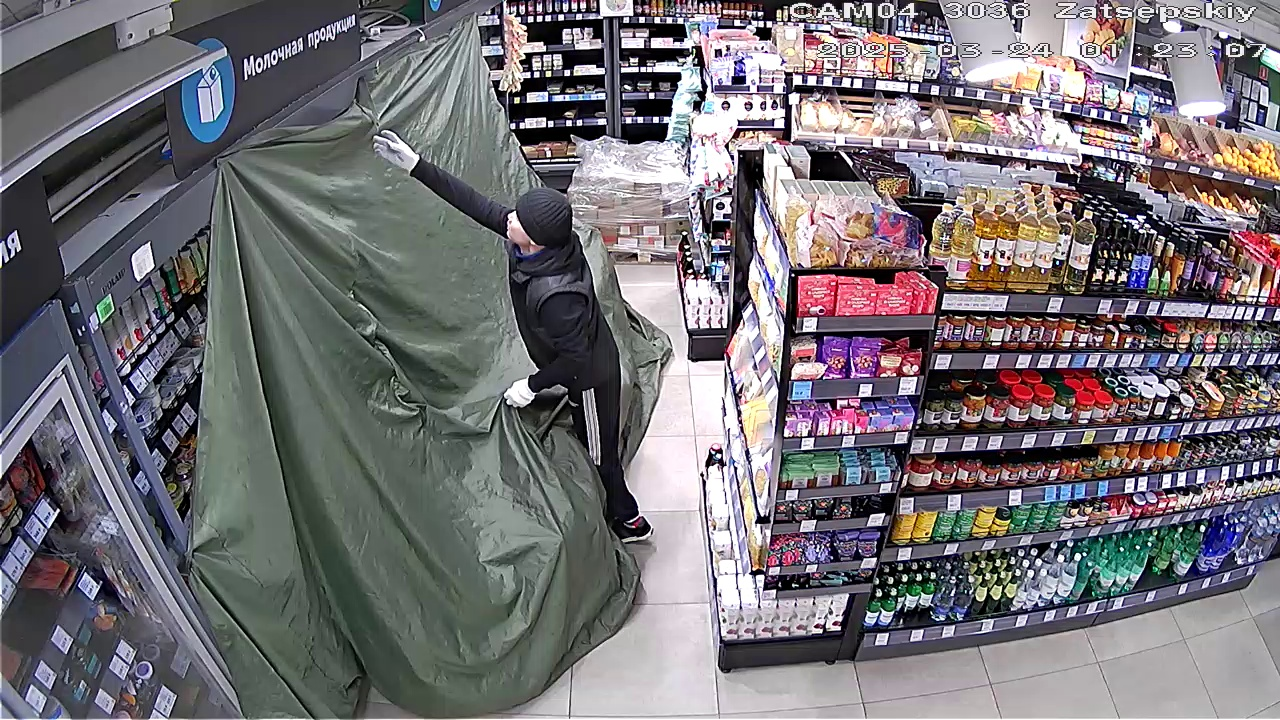Human: (365, 115, 652, 535)
dome: (163, 16, 672, 713)
pallet: (565, 134, 687, 266)
